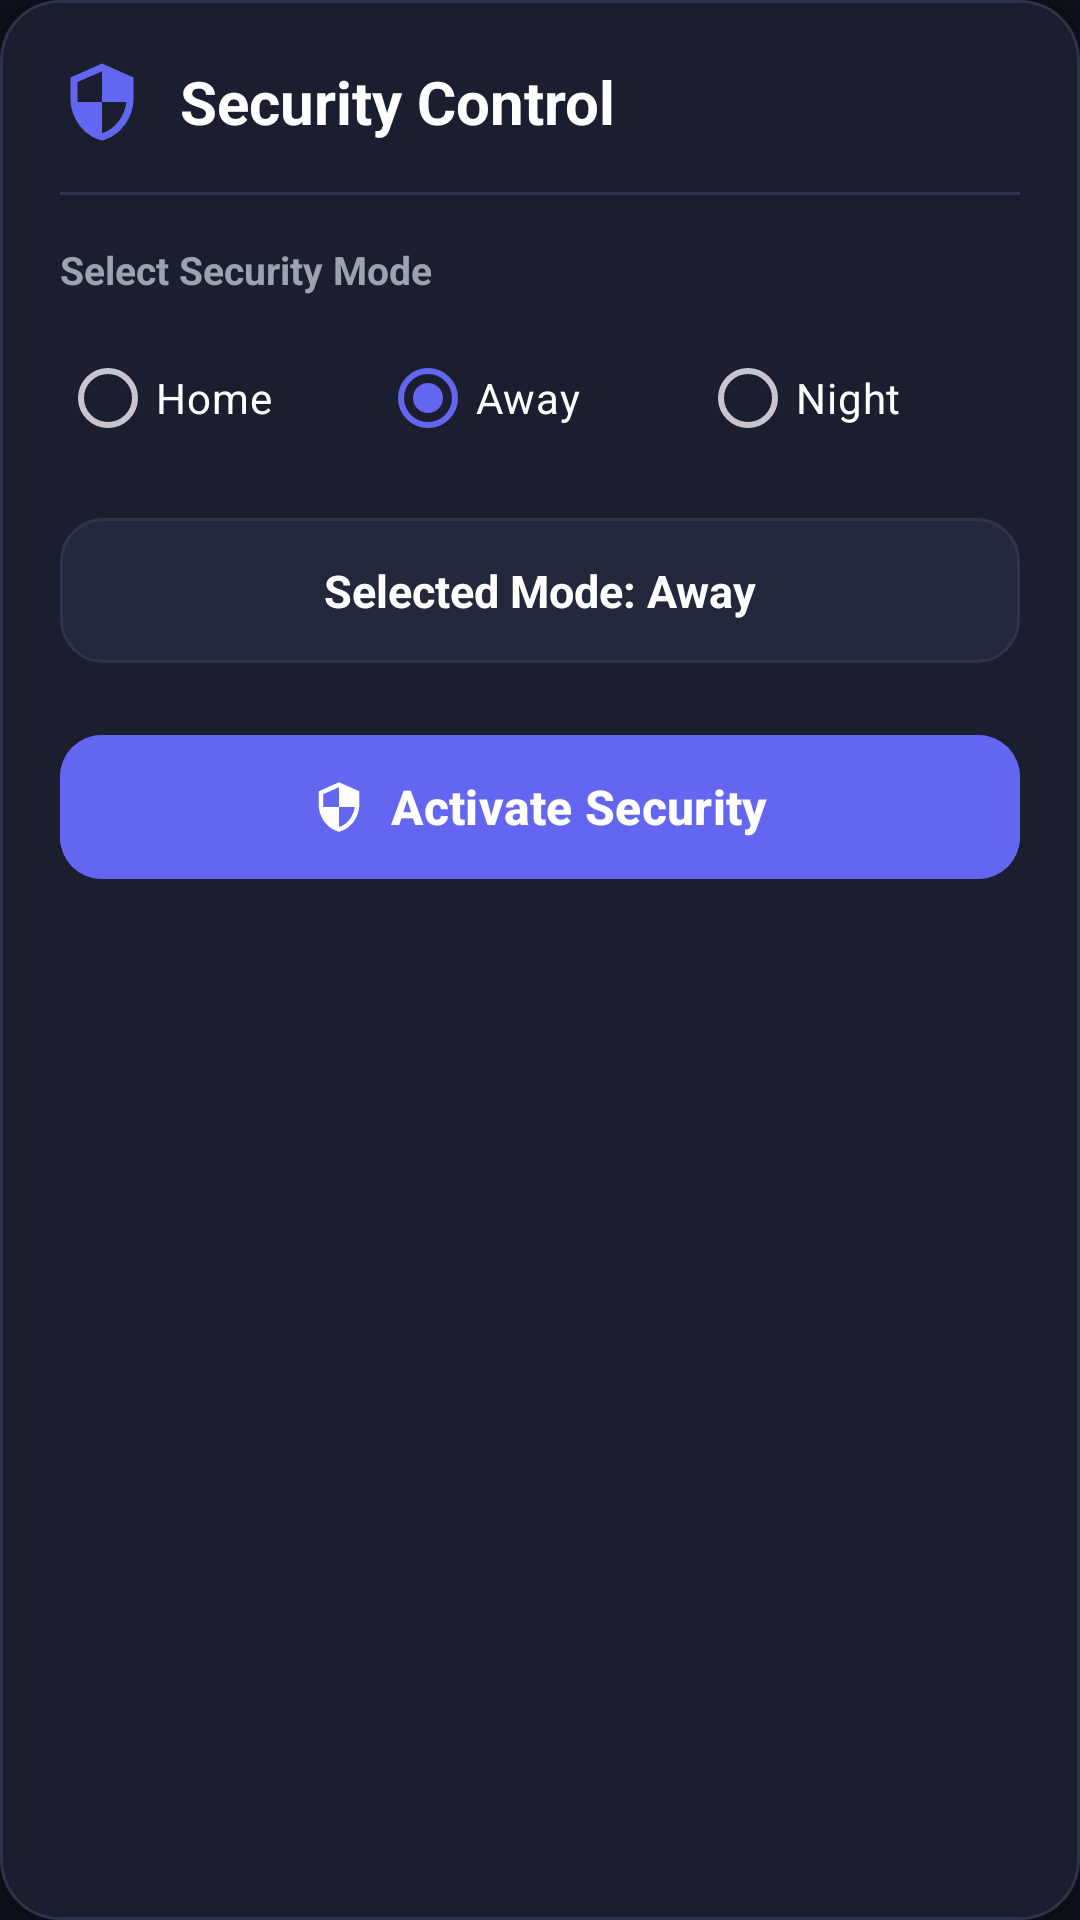

Where to tap for icons on this 1080 × 1920 app screen, as point (x, y):
shield: point (102, 102)
